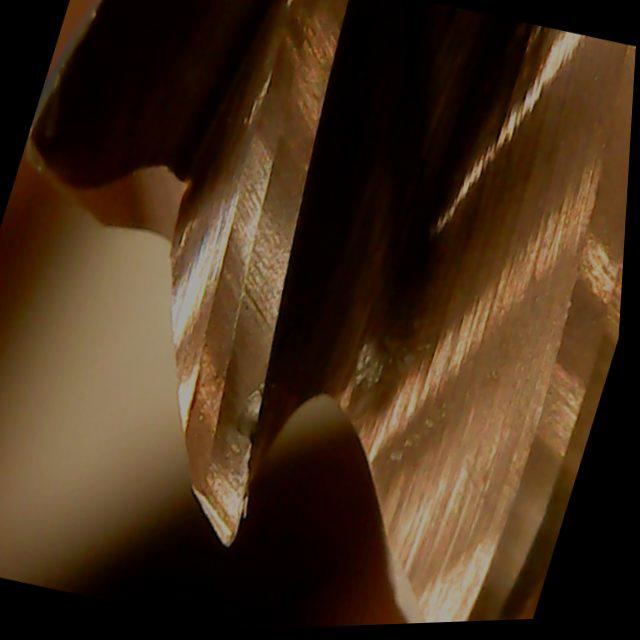Tool-wear-class-1: (102, 198, 350, 564)
